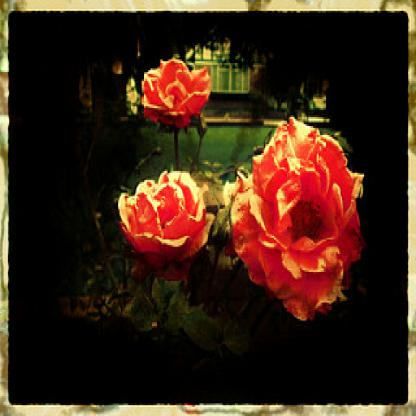ROSE-MAWAR: (102, 44, 373, 331)
